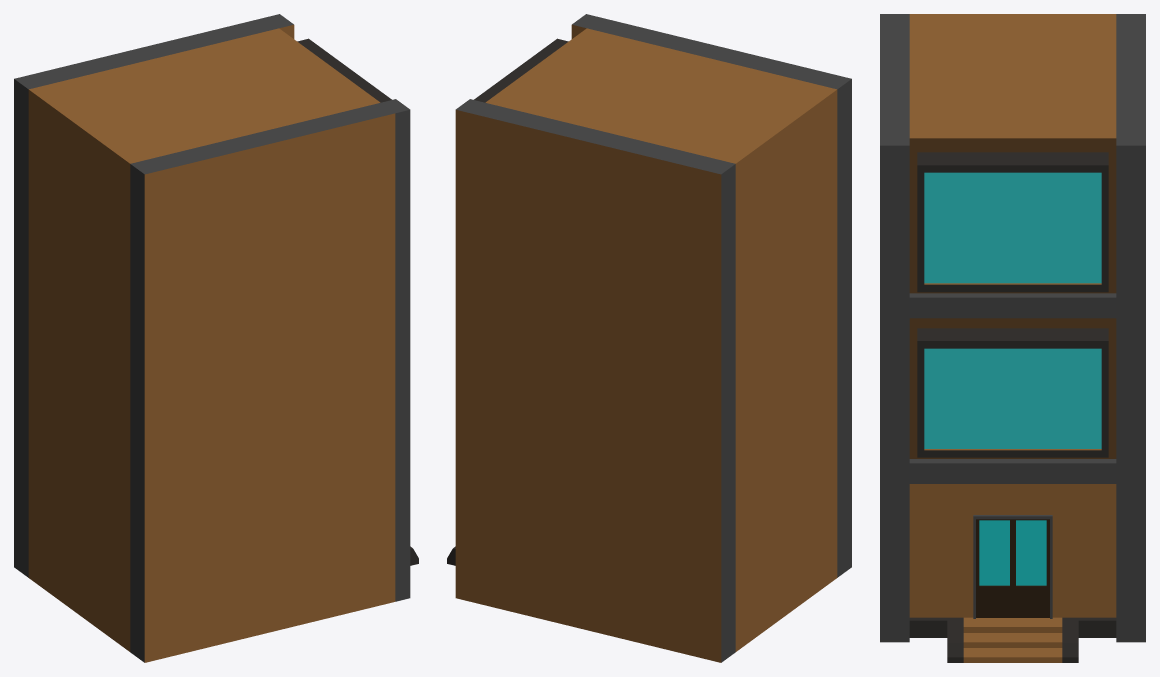
The model's file is PropBuilding_12.fbx.
3 renders of one model, left to right at view 1: azimuth 30°, elevation 25°; view 2: azimuth 150°, elevation 25°; view 3: azimuth 270°, elevation 25°, orthographic.
Parts seen in each view (by area): view 1: PropBulding5_Body.009; view 2: PropBulding5_Body.009; view 3: PropBulding5_Body.009, PropBulding5_Body.010.
Boxes of the visible parts, x1,y1,x2,y2 form: PropBulding5_Body.009: [14, 14, 418, 662]; PropBulding5_Body.009: [447, 14, 851, 662]; PropBulding5_Body.009: [880, 14, 1145, 662]; PropBulding5_Body.010: [976, 519, 1049, 617].
Bounding box in the file's own units: 1355 × 2059 × 998.
2 materials, 2 textured.
